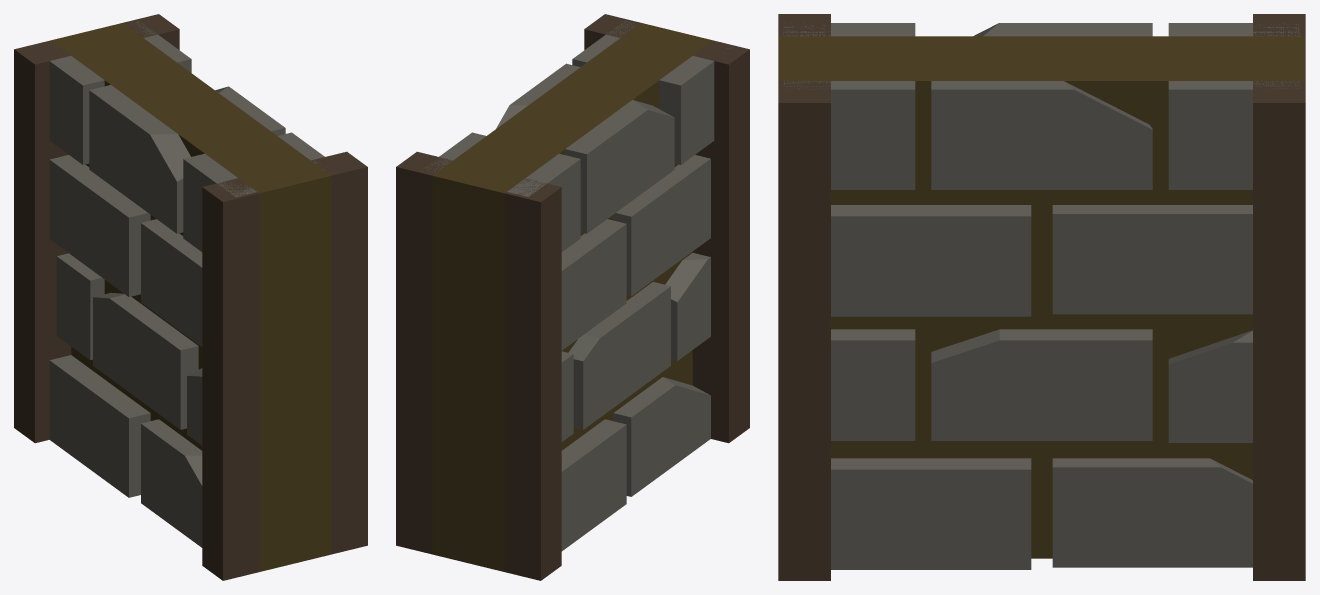
Rendered from A_BrickWall10.fbx.
The picture shows the model from 3 angles, left to right: view 1: azimuth 30°, elevation 25°; view 2: azimuth 150°, elevation 25°; view 3: azimuth 270°, elevation 25°; orthographic projection. The views are drawn at different scales.
Visible parts, largest first — view 1: A_BrickWall10; view 2: A_BrickWall10; view 3: A_BrickWall10.
Boxes of the visible parts, x1,y1,x2,y2 form: A_BrickWall10: (14,14,367,580); A_BrickWall10: (396,14,749,580); A_BrickWall10: (778,14,1305,580).
Size of the model in its own units: 40 by 100 by 100.
